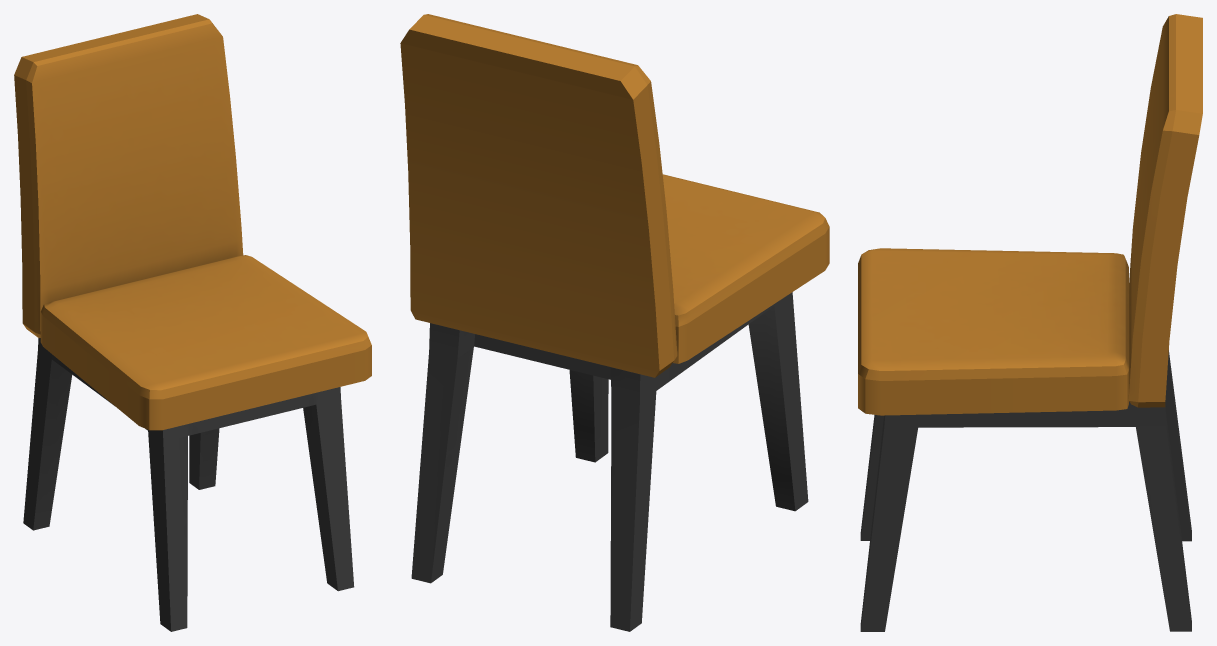
The model's file is FamilyRestaurant_Chair.fbx.
The picture shows the model from 3 angles, left to right: view 1: azimuth 30°, elevation 25°; view 2: azimuth 150°, elevation 25°; view 3: azimuth 270°, elevation 25°; orthographic projection. The views are drawn at different scales.
Visible parts, largest first — view 1: Chair; view 2: Chair; view 3: Chair.
Boxes of the visible parts, x1=… form: Chair: x1=14, y1=14, x2=371, y2=631; Chair: x1=400, y1=14, x2=829, y2=631; Chair: x1=858, y1=14, x2=1202, y2=631.
Size of the model in its own units: 48.17 by 93.48 by 56.17.
